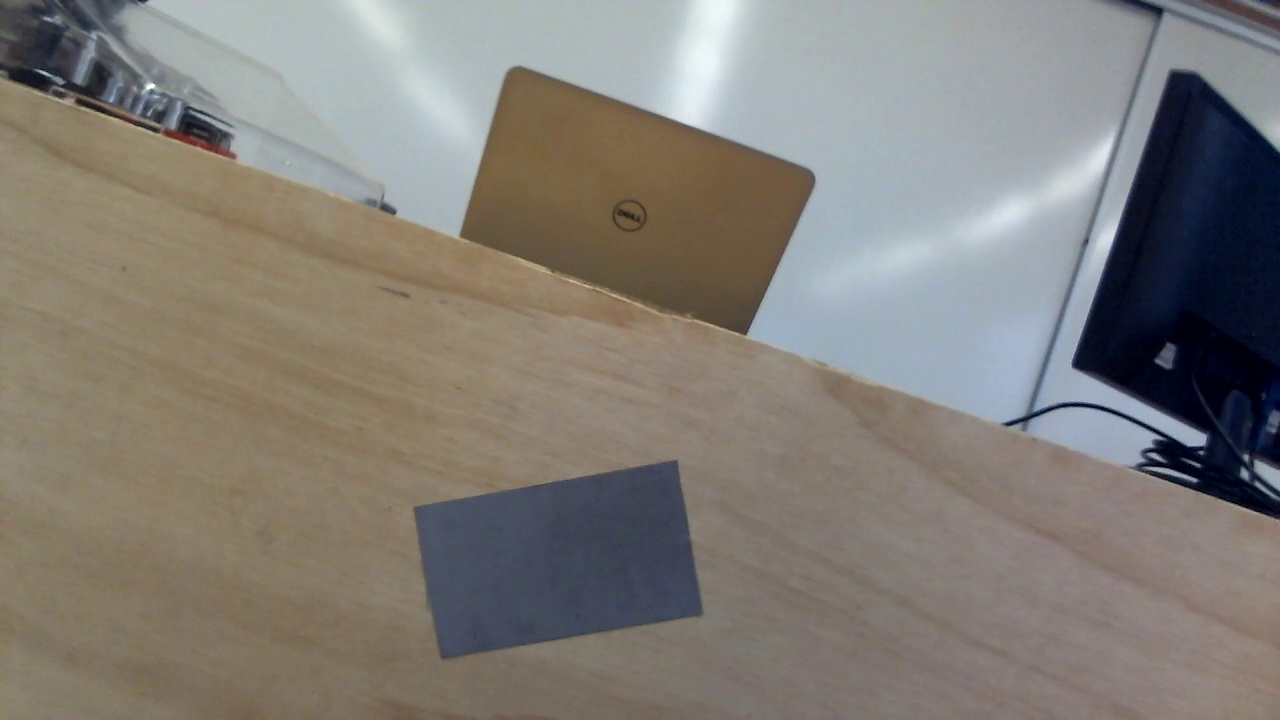Tape: (415, 460, 703, 662)
